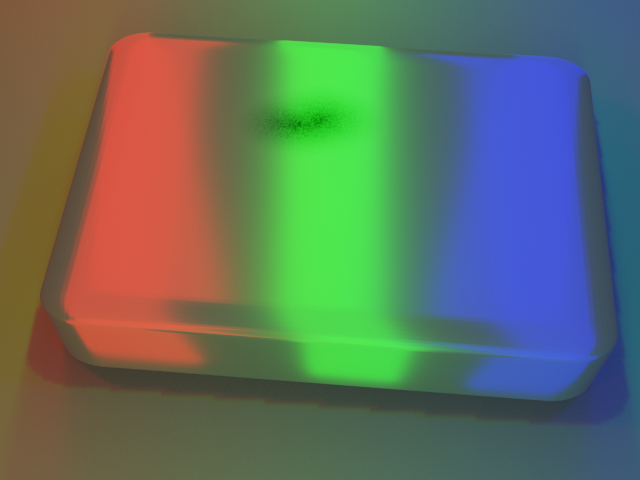stain: (197, 58, 404, 169)
